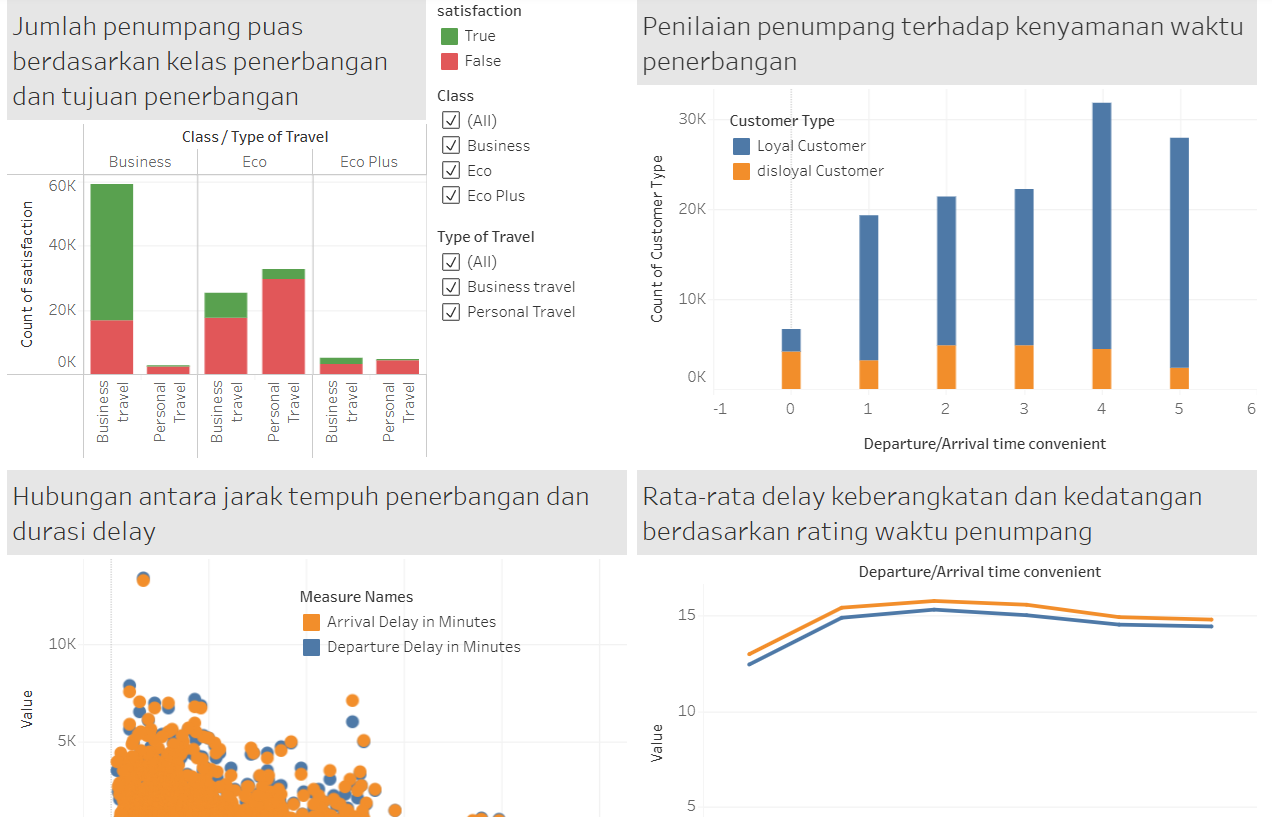

The page's visual inventory and layout, read from the dashboard file:
{"tool":"tableau","page":{"name":"Dashboard 1","canvas":[1024,768],"ordinal":0},"visuals":[{"type":"worksheet","title":"Jumlah penumpang puas berdasarkan kelas penerbangan dan tujuan penerbangan","mark":"Automatic","rows":["satisfaction"],"cols":["Class","Type of Travel"],"box":[8,8,344,376]},{"type":"legend","title":"Jumlah penumpang puas berdasarkan kelas penerbangan dan tujuan penerbangan","param":"[federated.0emxd3b0vgbrwk1d95tgn0x97w8z].[none:satisfaction:nk]","box":[352,8,160,72]},{"type":"worksheet","title":"Penilaian penumpang terhadap kenyamanan waktu penerbangan","mark":"Bar","rows":["Customer Type"],"cols":["Departure/Arrival time convenient"],"box":[512,8,504,376]},{"type":"filter","title":"Jumlah penumpang puas berdasarkan kelas penerbangan dan tujuan penerbangan","param":"[federated.0emxd3b0vgbrwk1d95tgn0x97w8z].[none:Class:nk]","box":[352,80,160,101.3]},{"type":"legend","title":"Penilaian penumpang terhadap kenyamanan waktu penerbangan","param":"[federated.0emxd3b0vgbrwk1d95tgn0x97w8z].[none:Customer Type:nk]","box":[590,100,154,64]},{"type":"filter","title":"Jumlah penumpang puas berdasarkan kelas penerbangan dan tujuan penerbangan","param":"[federated.0emxd3b0vgbrwk1d95tgn0x97w8z].[none:Type of Travel:nk]","box":[352,181.3,160,101.3]},{"type":"filter","title":"Penilaian penumpang terhadap kenyamanan waktu penerbangan","param":"[federated.0emxd3b0vgbrwk1d95tgn0x97w8z].[none:Customer Type:nk]","box":[352,282.7,160,101.3]},{"type":"worksheet","title":"Hubungan antara jarak tempuh penerbangan dan durasi delay","mark":"Circle","cols":["Flight Distance"],"box":[8,384,504,376]},{"type":"worksheet","title":"Rata-rata delay keberangkatan dan kedatangan berdasarkan rating waktu penumpang","mark":"Line","cols":["Departure/Arrival time convenient"],"box":[512,384,504,376]},{"type":"legend","title":"Hubungan antara jarak tempuh penerbangan dan durasi delay","param":"[federated.0emxd3b0vgbrwk1d95tgn0x97w8z].[:Measure Names]","box":[246,481,221,72]},{"type":"dashboard-object","box":[850,674,164,52]}]}

Visuals, with their boxes on the page's 1024x768 design canvas (x1, y1, x2, y2). These are canvas units, not pixel positions in the 1272x817 screenshot, which may show the page scaled, cropped or inside an application window:
"Jumlah penumpang puas berdasarkan kelas penerbangan dan tujuan penerbangan" worksheet: BBox(8, 8, 352, 384)
"Jumlah penumpang puas berdasarkan kelas penerbangan dan tujuan penerbangan" legend: BBox(352, 8, 512, 80)
"Penilaian penumpang terhadap kenyamanan waktu penerbangan" worksheet (Bar marks): BBox(512, 8, 1016, 384)
"Jumlah penumpang puas berdasarkan kelas penerbangan dan tujuan penerbangan" filter: BBox(352, 80, 512, 181)
"Penilaian penumpang terhadap kenyamanan waktu penerbangan" legend: BBox(590, 100, 744, 164)
"Jumlah penumpang puas berdasarkan kelas penerbangan dan tujuan penerbangan" filter: BBox(352, 181, 512, 283)
"Penilaian penumpang terhadap kenyamanan waktu penerbangan" filter: BBox(352, 283, 512, 384)
"Hubungan antara jarak tempuh penerbangan dan durasi delay" worksheet (Circle marks): BBox(8, 384, 512, 760)
"Rata-rata delay keberangkatan dan kedatangan berdasarkan rating waktu penumpang" worksheet (Line marks): BBox(512, 384, 1016, 760)
"Hubungan antara jarak tempuh penerbangan dan durasi delay" legend: BBox(246, 481, 467, 553)
dashboard-object: BBox(850, 674, 1014, 726)
